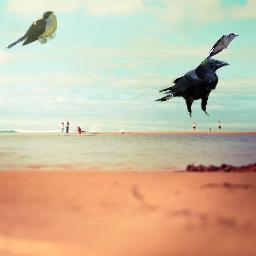Crow: (154, 58, 231, 118)
Cuckoo: (3, 11, 57, 49), (201, 33, 239, 66)
